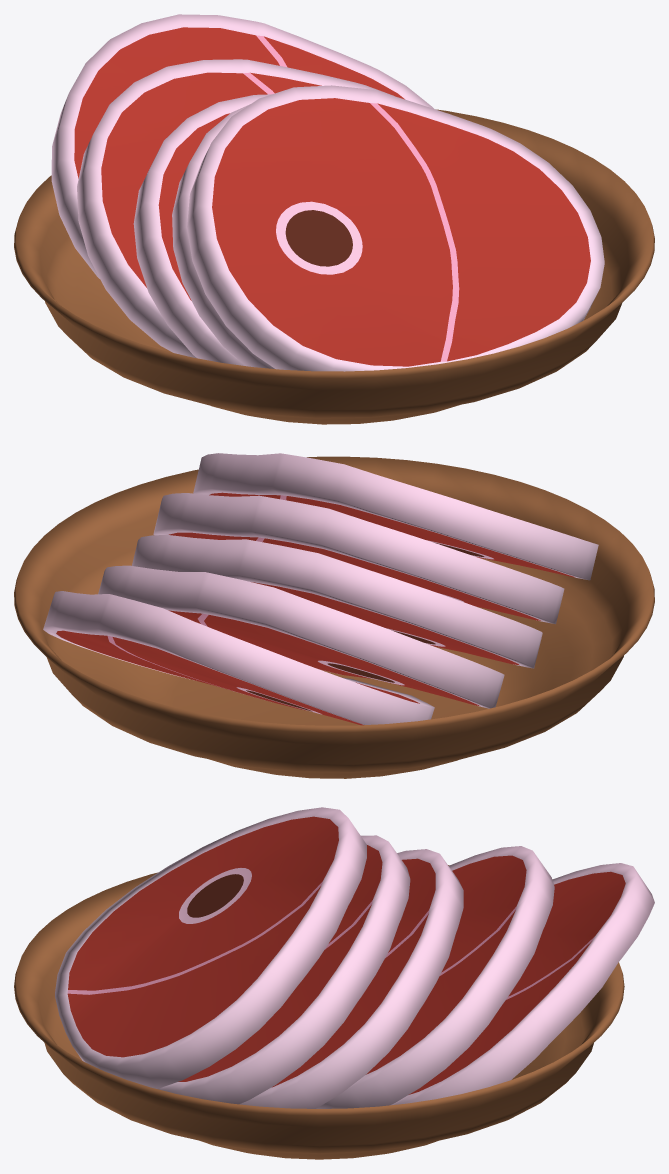
File: meat.glb
The picture shows the model from 3 angles, top to bottom: view 1: azimuth 30°, elevation 25°; view 2: azimuth 150°, elevation 25°; view 3: azimuth 270°, elevation 25°; orthographic projection. The views are drawn at different scales.
Visible parts, largest first — view 1: plate; view 2: plate; view 3: plate.
Boxes of the visible parts, left/top/right/bottom form: plate: left=14, top=14, right=654, bottom=424; plate: left=14, top=453, right=654, bottom=778; plate: left=14, top=807, right=654, bottom=1159.
Size of what is drawn, in the model's own units: 0.542 by 0.2418 by 0.569.
Materials: 2 (1 with a texture image).
